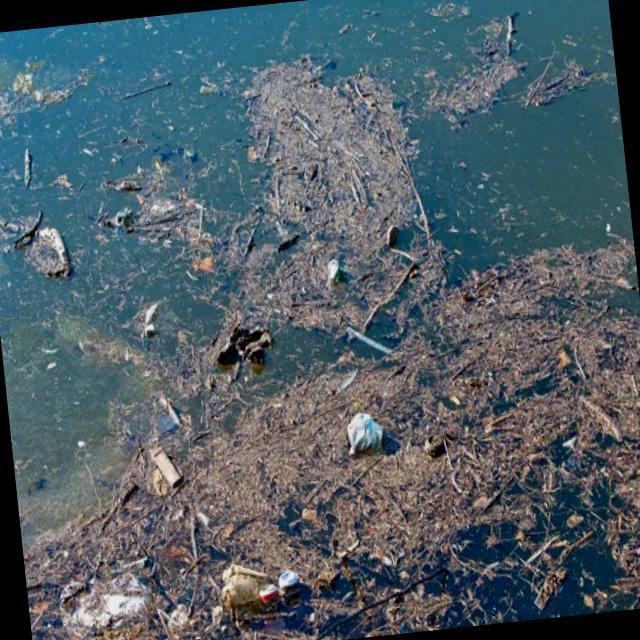garbage: (17, 39, 640, 640)
